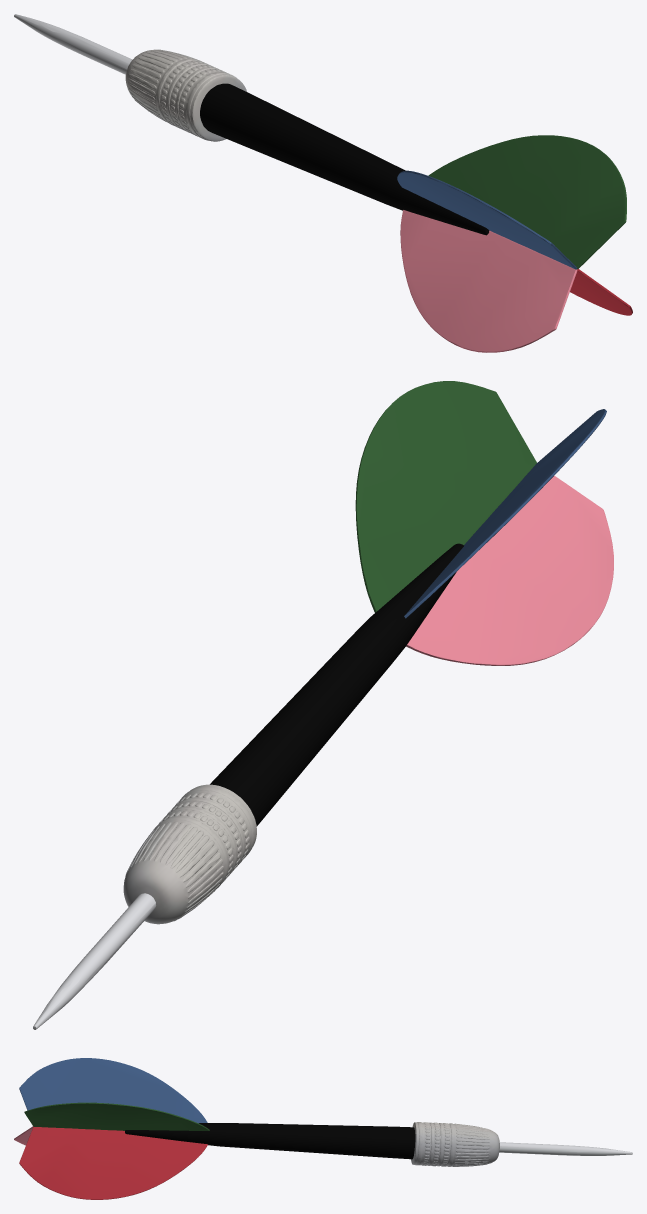
Rendered from dardo_Dardos.obj.
3 renders of one model, top to bottom at view 1: azimuth 30°, elevation 25°; view 2: azimuth 150°, elevation 25°; view 3: azimuth 270°, elevation 25°, orthographic. The views are drawn at different scales.
Visible parts, largest first — view 1: dart_001; view 2: dart_001; view 3: dart_001.
Part boxes in pixels (box(x1,y1,x2,y2)): dart_001: box(14, 14, 632, 352); dart_001: box(33, 381, 613, 1029); dart_001: box(14, 1058, 632, 1199).
Size of the model in its own units: 1.43 by 1.43 by 8.05.
